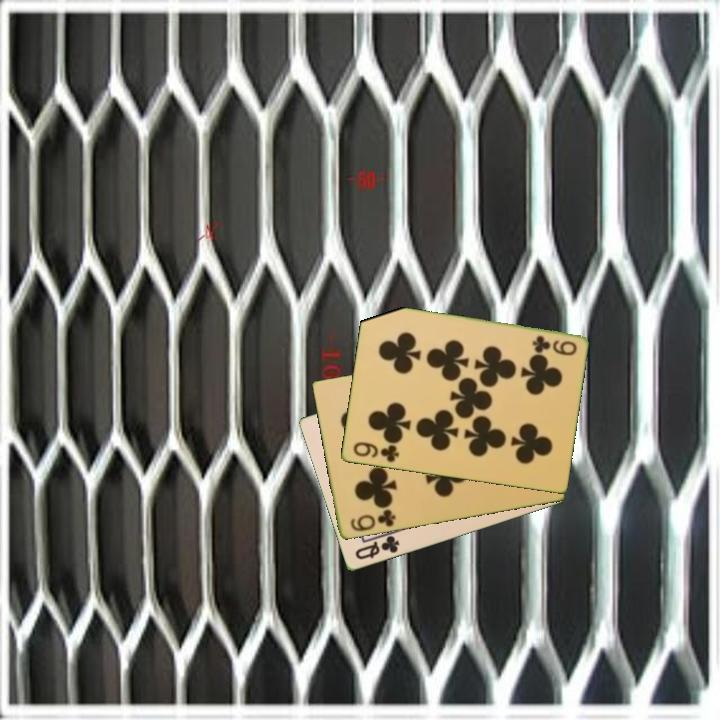6c: (347, 506, 398, 535)
9c: (349, 439, 402, 465), (528, 332, 579, 358)
Qc: (351, 532, 402, 563)
